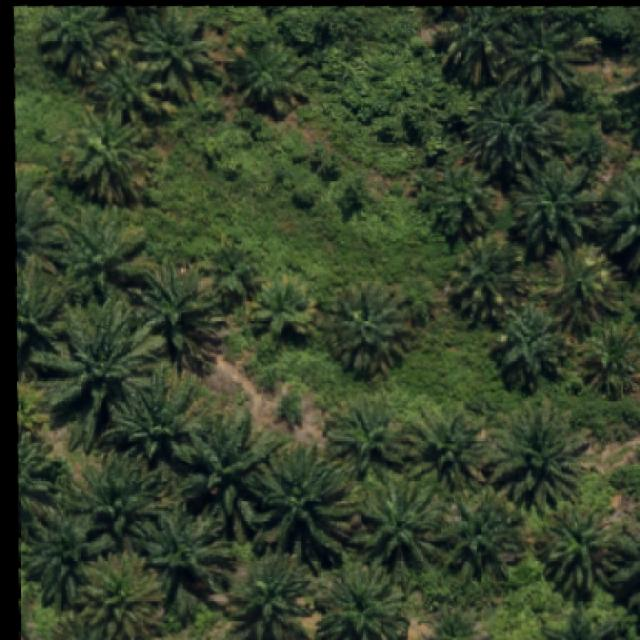Kelapa_Sawit: (32, 295, 170, 456), (249, 437, 362, 577), (179, 405, 286, 543), (125, 251, 228, 374), (488, 402, 592, 520), (135, 498, 240, 613), (98, 364, 212, 462), (462, 83, 566, 189), (57, 208, 155, 310), (321, 277, 417, 378), (498, 12, 602, 102), (60, 109, 154, 208), (74, 458, 178, 547), (508, 157, 597, 261), (540, 242, 629, 344), (18, 502, 94, 620), (131, 7, 223, 104), (71, 547, 166, 640), (356, 477, 446, 574), (536, 504, 619, 608), (320, 390, 414, 478), (444, 233, 527, 330), (408, 399, 490, 496), (90, 49, 178, 133), (493, 300, 570, 395), (227, 37, 311, 123), (446, 496, 526, 584), (572, 322, 639, 406), (201, 232, 270, 312), (247, 273, 321, 341)
